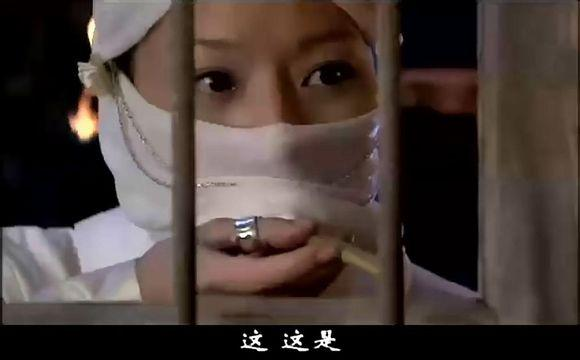OK: (165, 39, 360, 234)
